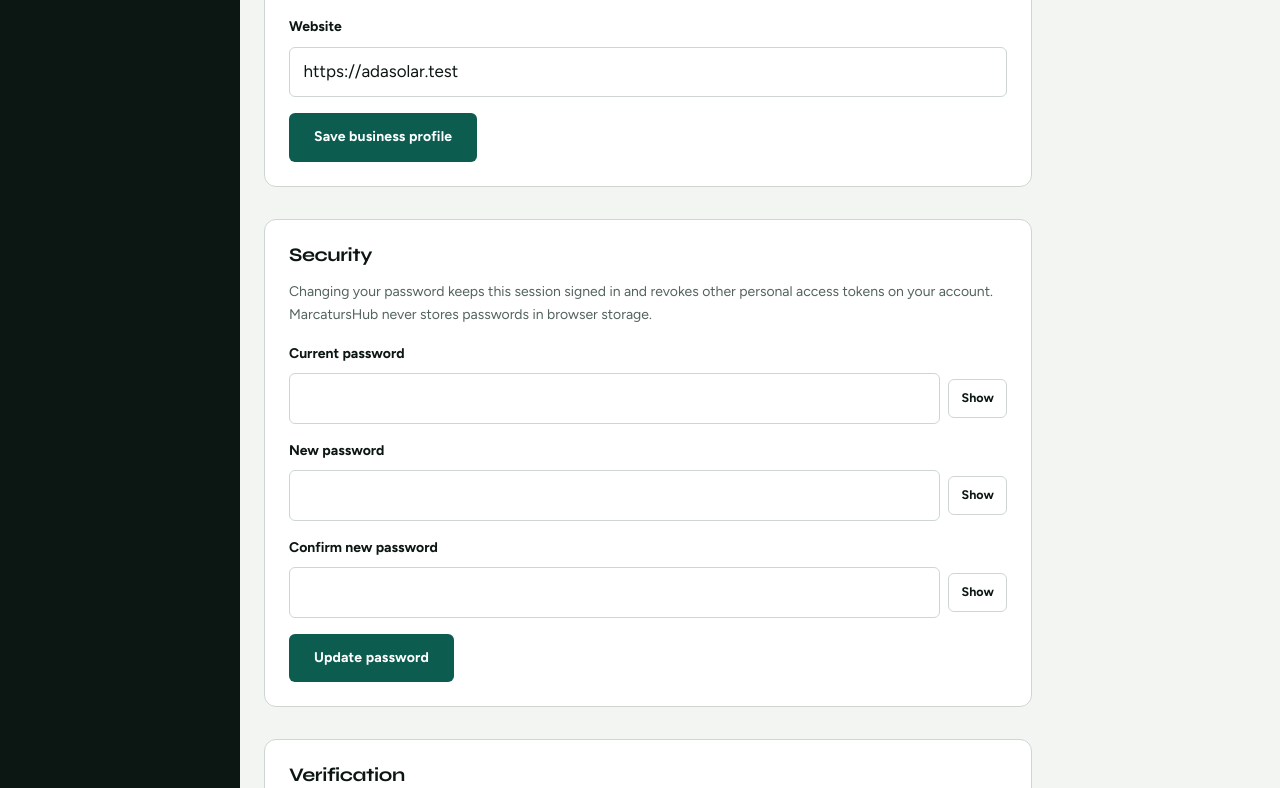
Scenario: MH-FE-P09 participant settings › renders change-password form and succeeds
(page scrolled)
In the password field labelled "Current password": x=615, y=398 [289,373,940,424], type "DemoPass123!"
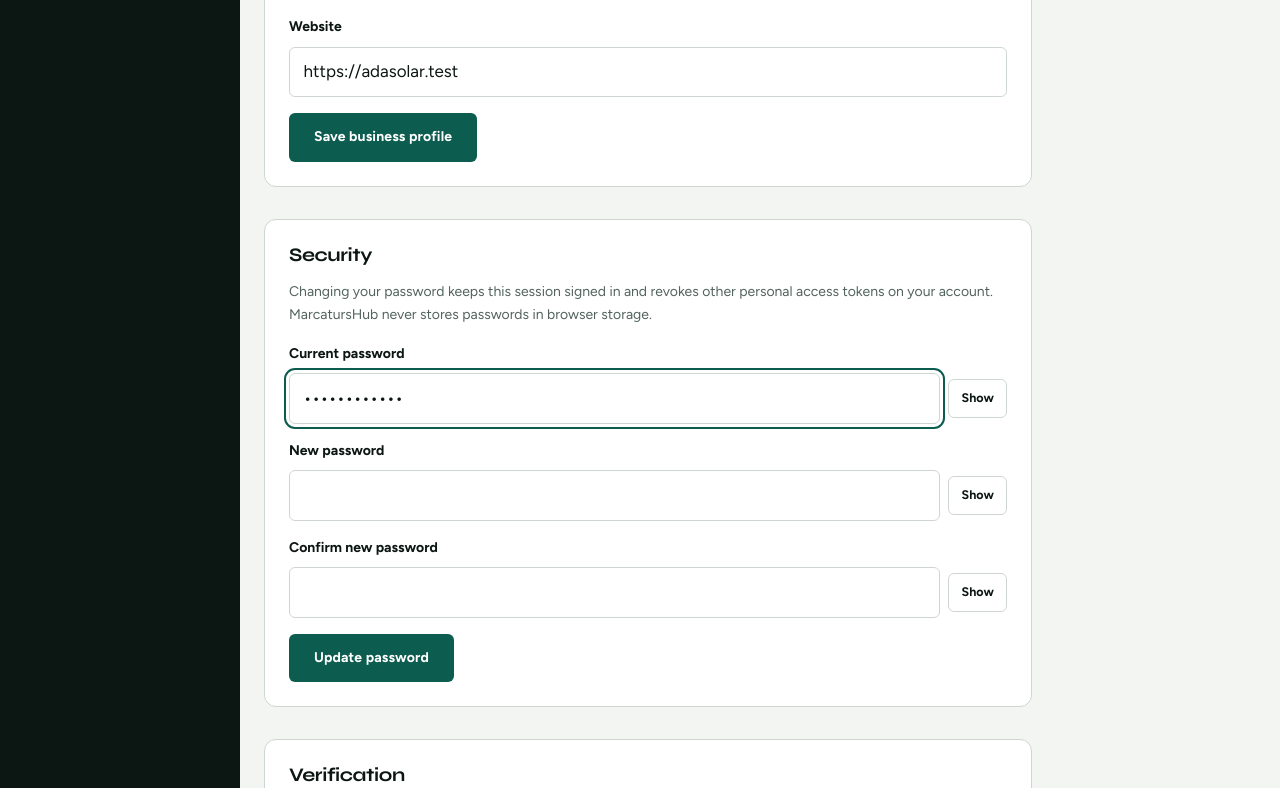
In the password field labelled "New password": x=615, y=495 [289,470,940,521], type "NewPass123!"
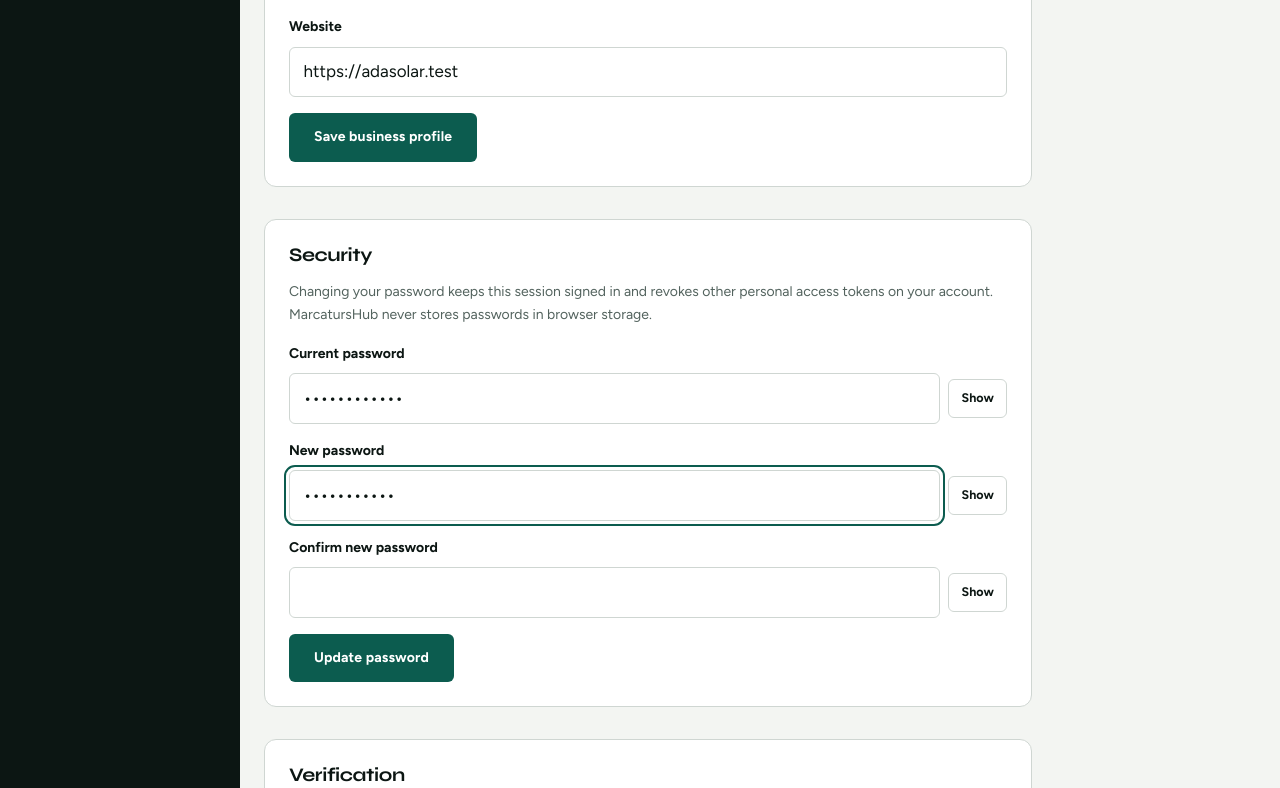
In the password field labelled "Confirm new password": x=615, y=592 [289,567,940,618], type "NewPass123!"
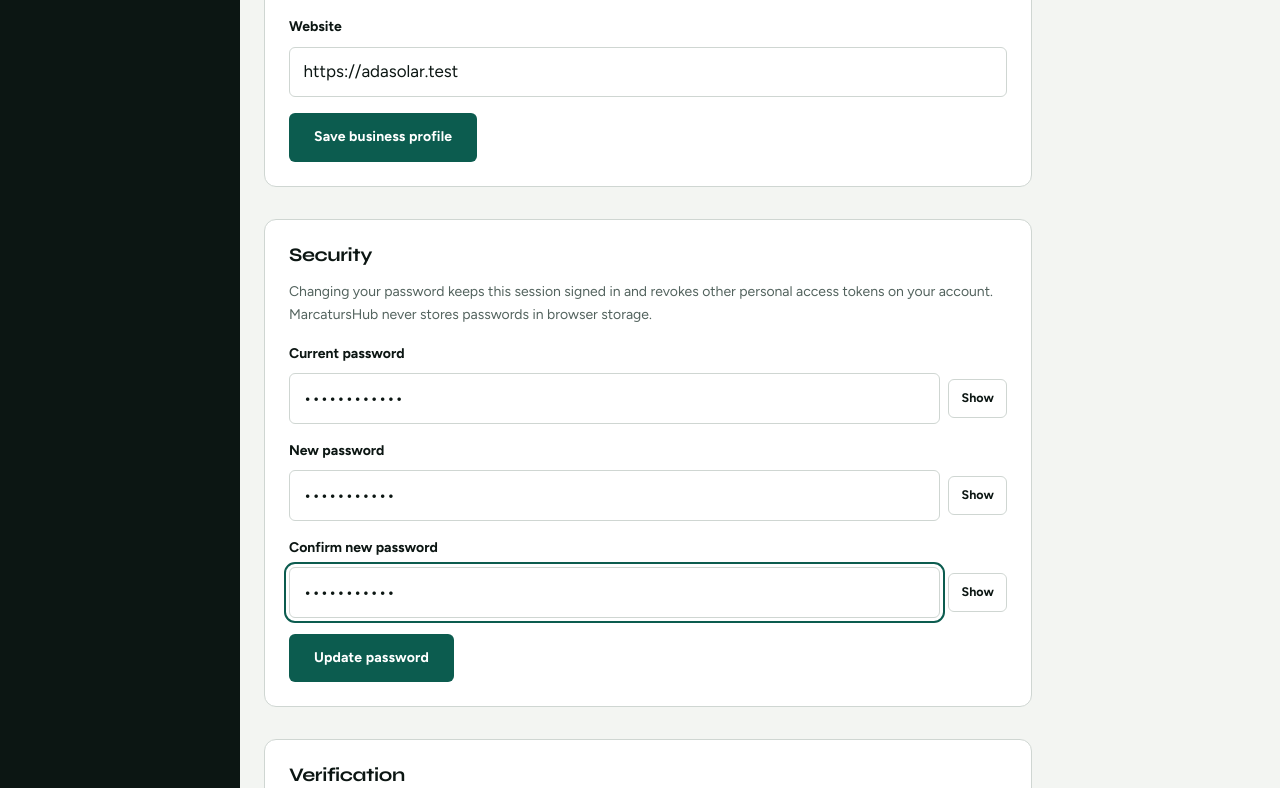
Click the button "Update password": x=371, y=658 [289,634,454,682]
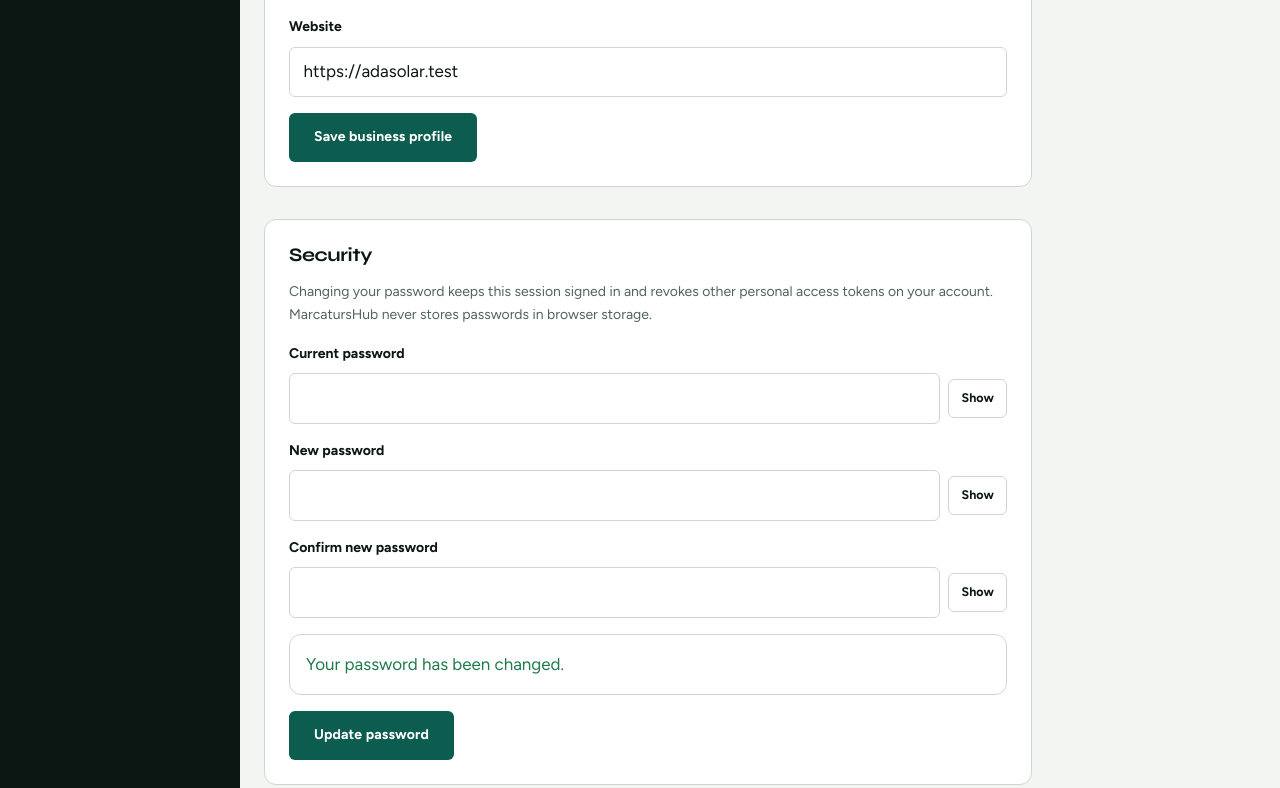
Check: the text "Your password has been changed." is shown, box [289,634,1007,695]
Check: the password field labelled "Current password" is empty, box [289,373,940,424]
